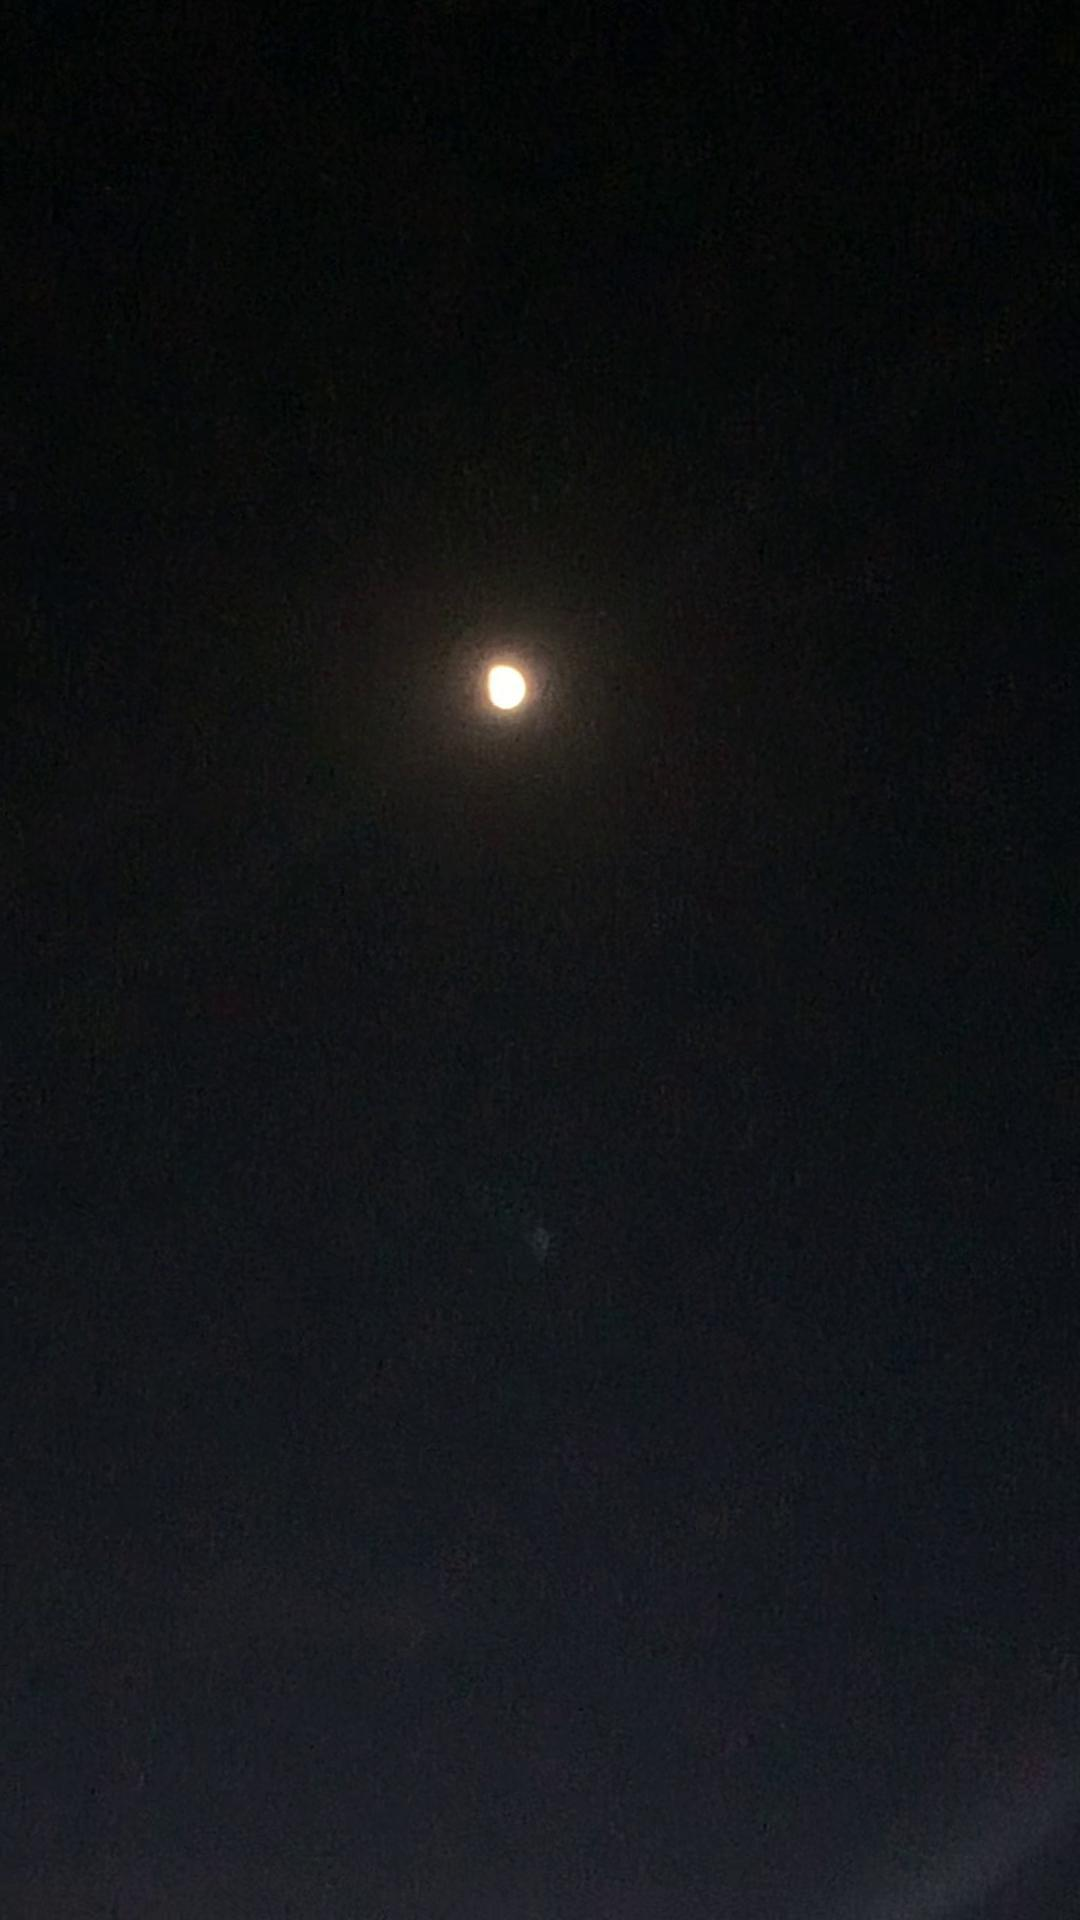moon: (484, 617, 567, 712)
